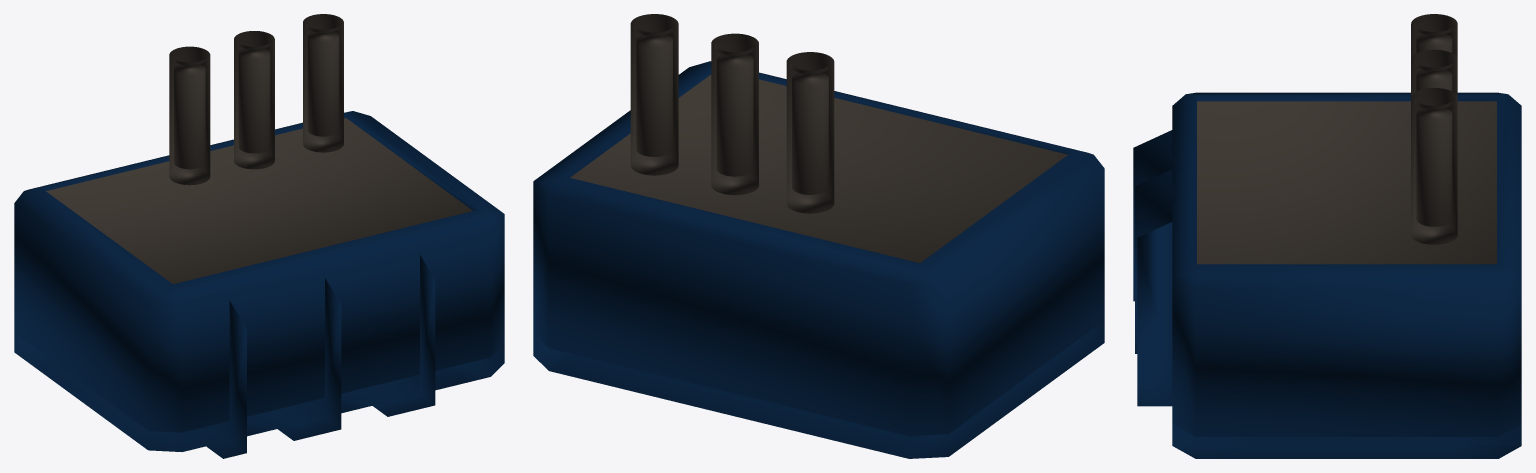
File: hub_blue_lvl2.glb
3 views of the same model, side by side, from view 1: azimuth 30°, elevation 25°; view 2: azimuth 150°, elevation 25°; view 3: azimuth 270°, elevation 25° (orthographic). The views are drawn at different scales.
Parts seen in each view (by area): view 1: Cube, Cylinder.004, Cylinder.001, Cylinder.003; view 2: Cube, Cylinder.004, Cylinder.001, Cylinder.003; view 3: Cube, Cylinder.001, Cylinder.003, Cylinder.004.
Part boxes in pixels (<box>): Cube: <box>14,111,504,458</box>; Cylinder.004: <box>169,46,210,185</box>; Cylinder.001: <box>303,14,343,152</box>; Cylinder.003: <box>234,31,274,169</box>; Cube: <box>533,61,1104,458</box>; Cylinder.004: <box>786,52,834,213</box>; Cylinder.001: <box>630,14,678,175</box>; Cylinder.003: <box>711,33,758,195</box>; Cube: <box>1133,92,1521,458</box>; Cylinder.001: <box>1411,88,1457,244</box>; Cylinder.003: <box>1411,49,1457,96</box>; Cylinder.004: <box>1411,14,1457,58</box>.
Size of the model in its own units: 8 by 6.05 by 6.67.
